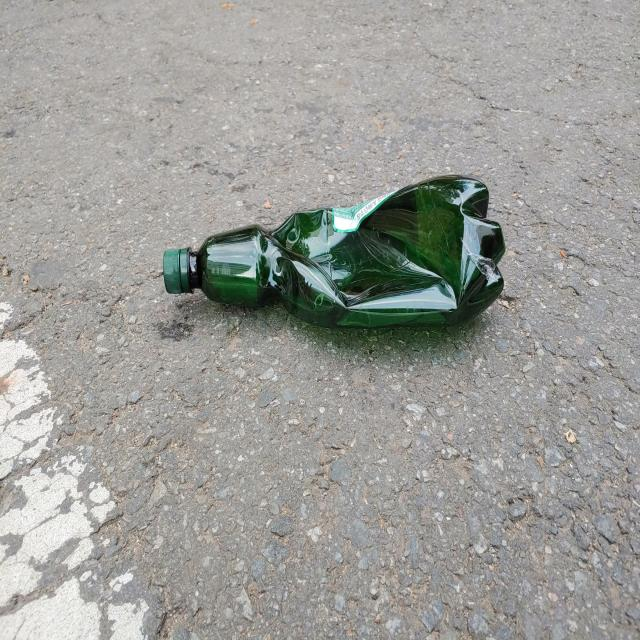plastic: (163, 174, 506, 327)
